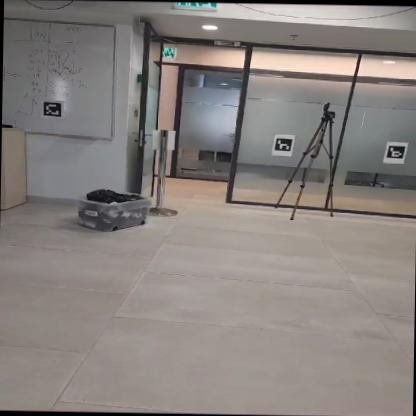open: (148, 66, 236, 209)
